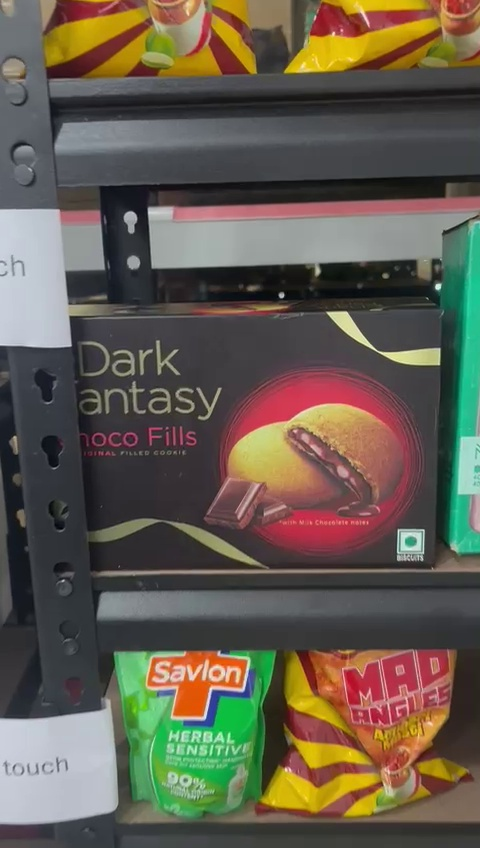Bingo Mad Angles: (281, 650, 466, 810)
Dark Fantasy: (74, 305, 428, 566)
Savlon Herbal: (115, 651, 269, 813)
